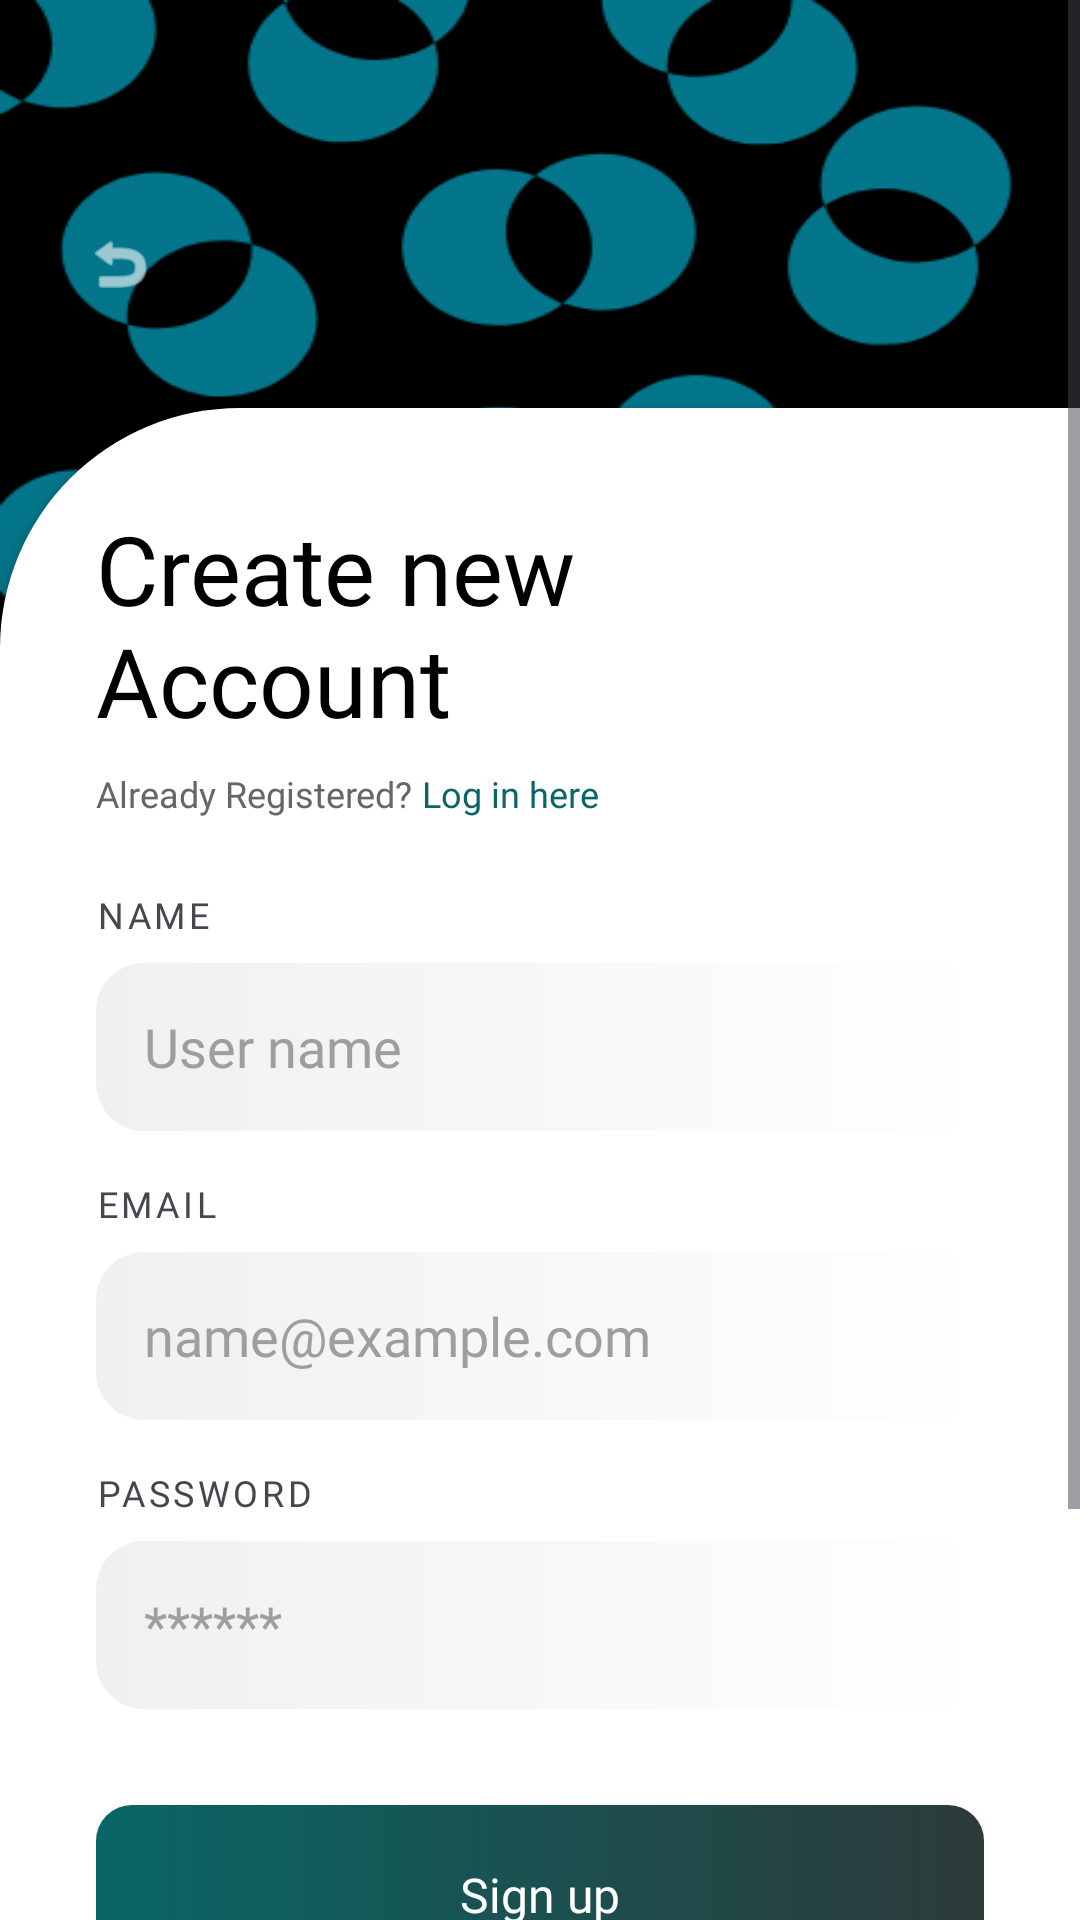

Named icons in this screenshot (1080*1920) and their bounding boxes, (x1, y1, x2, y2):
revert: (61, 192, 192, 336)
